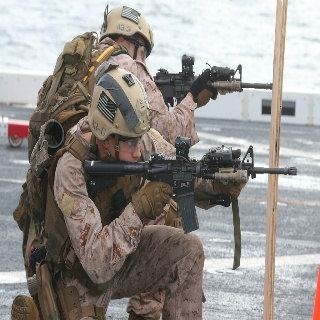rifle: (84, 135, 300, 235), (147, 53, 275, 108)
